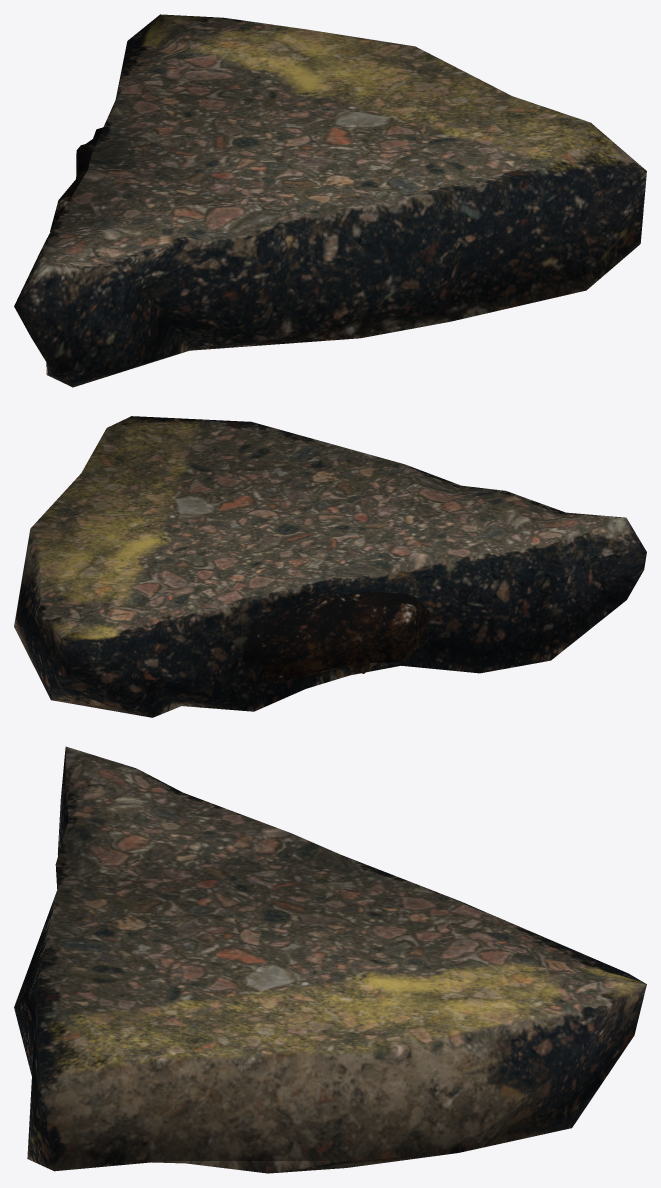
File: asphalt_final.glb
3 views of the same model, one above another, from view 1: azimuth 30°, elevation 25°; view 2: azimuth 150°, elevation 25°; view 3: azimuth 270°, elevation 25° (orthographic). The views are drawn at different scales.
Visible parts, largest first — view 1: tlhjacuva_LOD0_TIER3_002, tlhjacuva_LOD0_TIER3_000; view 2: tlhjacuva_LOD0_TIER3_002, tlhjacuva_LOD0_TIER3_000; view 3: tlhjacuva_LOD0_TIER3_002.
Part boxes in pixels (box(x1,y1,x2,y2)): tlhjacuva_LOD0_TIER3_002: box(14, 14, 646, 387); tlhjacuva_LOD0_TIER3_000: box(50, 126, 329, 231); tlhjacuva_LOD0_TIER3_002: box(14, 416, 646, 717); tlhjacuva_LOD0_TIER3_000: box(220, 512, 431, 682); tlhjacuva_LOD0_TIER3_002: box(14, 746, 646, 1173).
Size of the model in its own units: 0.1615 by 0.0378 by 0.1343.
1 material, 1 textured.
